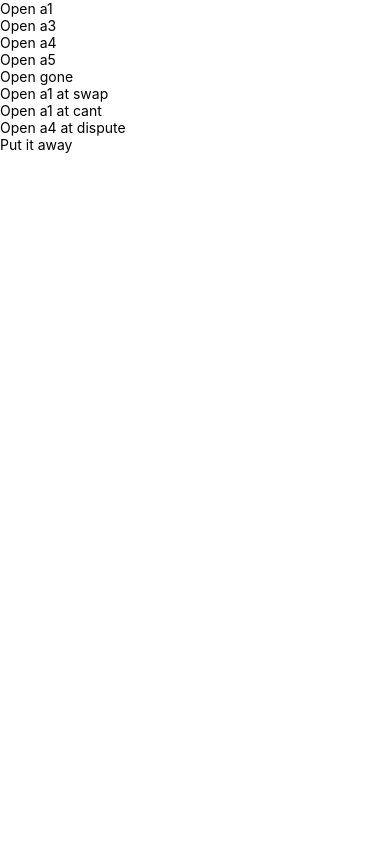
Test: your open John › skipping with immunity › says a refusal where it was asked
The image size is (390, 844).
Click the button "Open a1". click: (26,8)
box: left=0, top=0, right=389, bottom=17
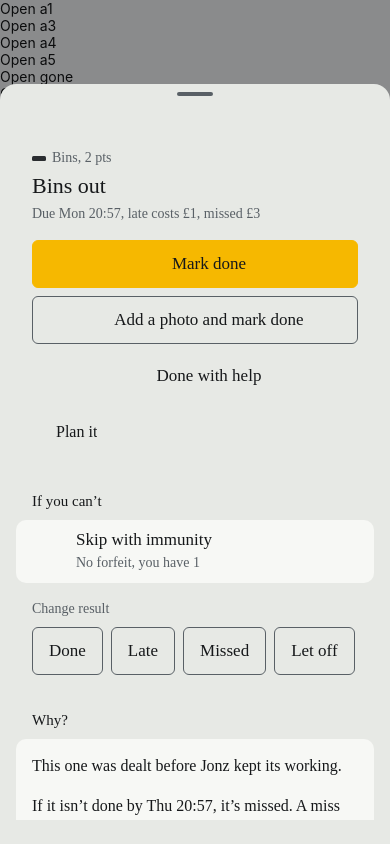
Click the element with test id "skip-row". click: (195,551)
box: left=16, top=519, right=374, bottom=583
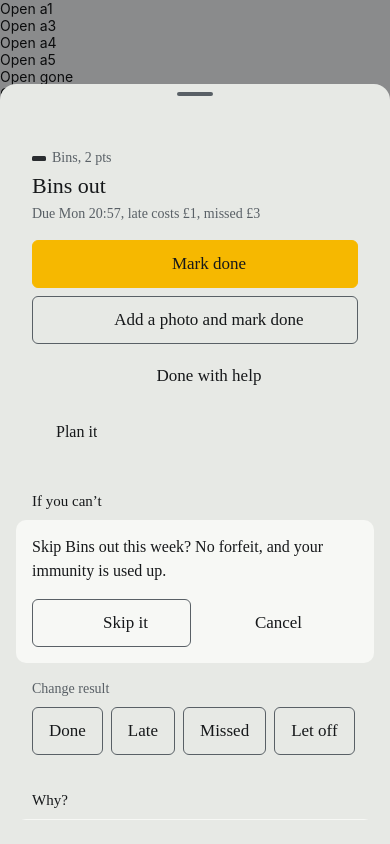
Click the button "Skip it". click: (112,623)
box: left=32, top=599, right=191, bottom=647
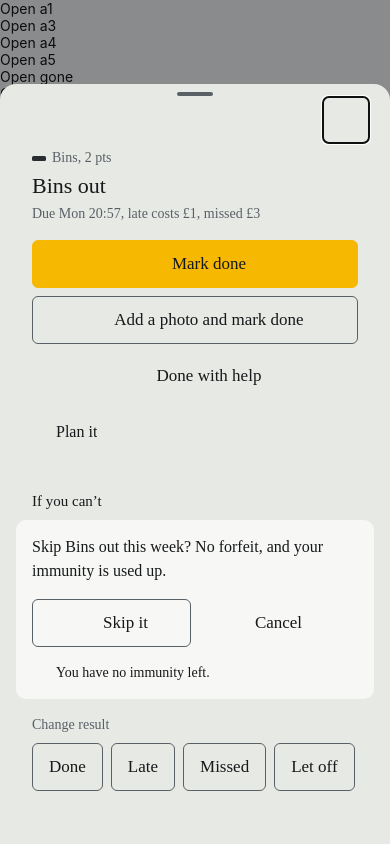
Expected: the message reads "You have no immunity left.", left=56, top=665, right=210, bottom=680
